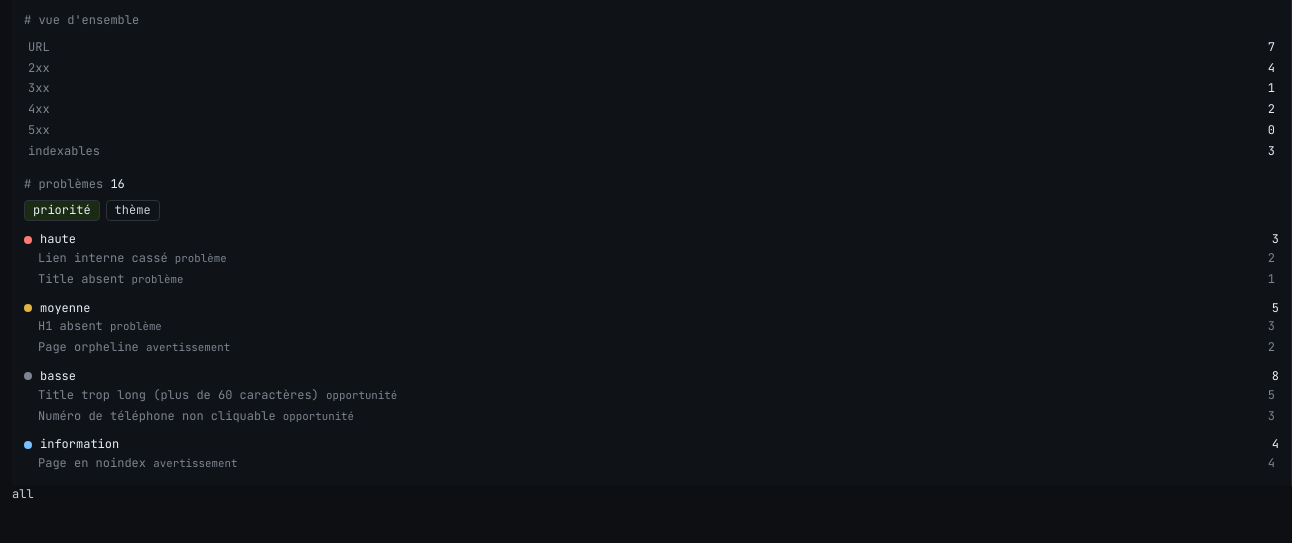
Test: le classement par thème regroupe les problèmes sous leur thème, avec le compteur du thème
The image size is (1292, 543).
What coordinates should you click on to do the following:
click the button "thème"
I would click on:
 (133, 211)
Its box is [106, 200, 160, 221].
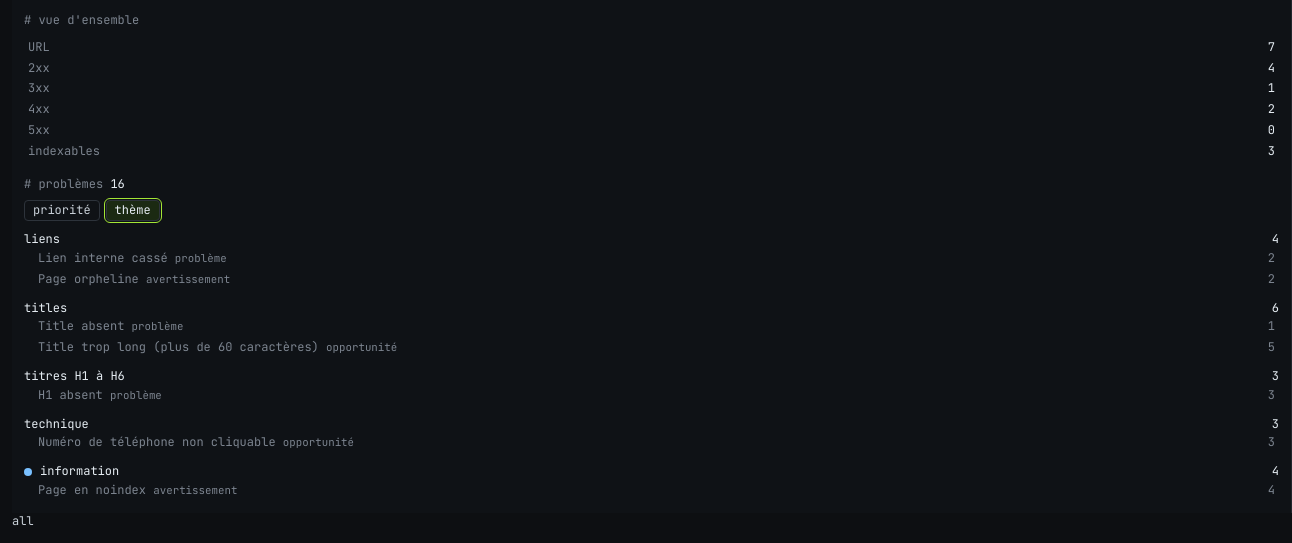
Expected: the heading "liens 4" is shown, [24, 231, 1279, 248]
Expected: the heading "titles 6" is shown, [24, 300, 1279, 316]
Expected: the heading "titres H1 à H6 3" is shown, [24, 368, 1279, 385]
